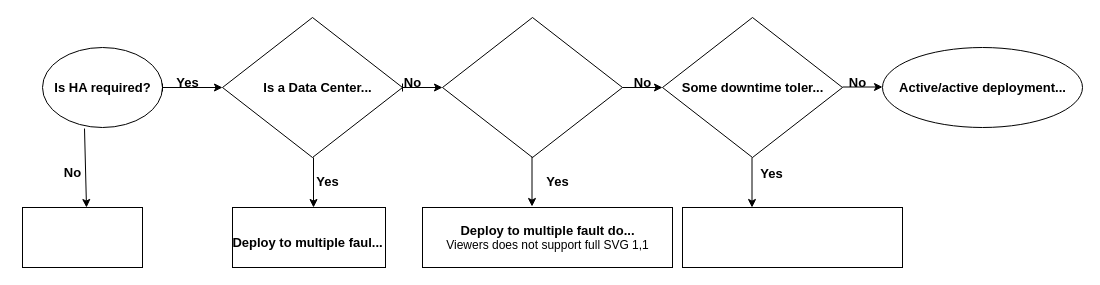
Some shapes in this 1100 by 285 pixel diagram are drawn without their labels. Each missing label, with the centre of its shape:
"Active/passive deployment in mult..." goes at (x=792, y=237).
"Deploy single in..." goes at (x=82, y=237).
"Is a regional..." goes at (x=532, y=87).
